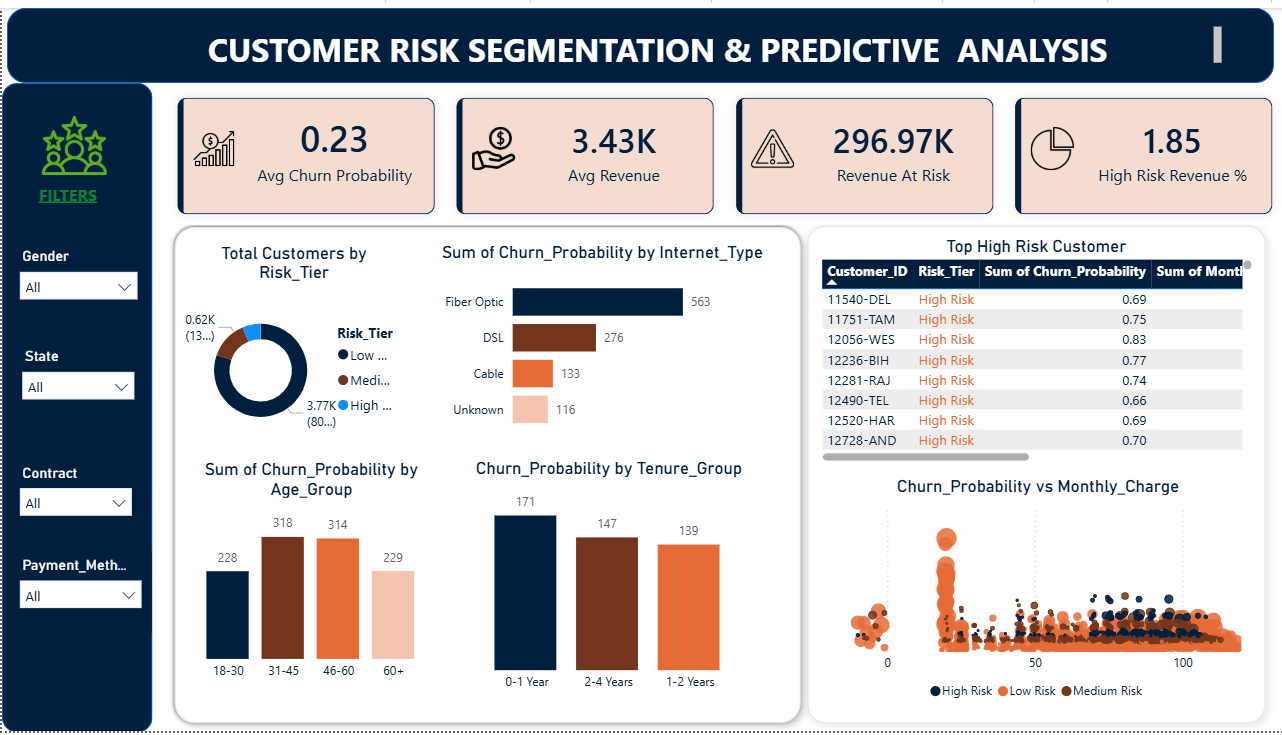

This screenshot's page, from the dashboard's own definition file:
{"tool":"powerbi","page":{"name":"Prediction","canvas":[1280,720],"ordinal":1},"visuals":[{"type":"shape","box":[5.5,0,1260.9,74.7],"z":0},{"type":"shape","box":[792.4,207.1,474,512.9],"z":1000},{"type":"shape","box":[162.6,208.5,640.8,511.6],"z":2000},{"type":"shape","box":[0,74.9,149.8,646.4],"z":3000},{"type":"donutChart","title":"Total Customers by Risk_Tier","fields":{"Category":["customer_risk_segments.Risk_Tier"],"Y":["dummy table.Total Customer"]},"box":[176.8,233.4,227.9,215.5],"z":4000},{"type":"tableEx","title":"Top High Risk Customer","fields":{"Values":["customer_risk_segments.Customer_ID","customer_risk_segments.Risk_Tier","Sum(customer_risk_segments.Churn_Probability)","Sum(customer_risk_segments.Monthly_Charge)","Sum(customer_risk_segments.Total_Revenue)","customer_risk_segments.Contract","customer_risk_segments.Internet_Type"]},"box":[812.8,233,438.3,230.3],"z":5000},{"type":"clusteredColumnChart","fields":{"Category":["mapping Agegroup.Age_Group"],"Y":["Sum(customer_risk_segments.Churn_Probability)"]},"box":[176.2,464.7,263.5,224.7],"z":6000},{"type":"scatterChart","title":"Churn_Probability vs   Monthly_Charge","fields":{"X":["customer_risk_segments.Monthly_Charge"],"Y":["Sum(customer_risk_segments.Churn_Probability)"],"Series":["customer_risk_segments.Risk_Tier"],"Size":["Sum(customer_risk_segments.Total_Revenue)"]},"box":[813.3,465.6,435.1,232.8],"z":7000},{"type":"slicer","fields":{"Values":["public customer_data.Contract"]},"box":[6.9,448.7,131.7,76.8],"z":8000},{"type":"cardVisual","fields":{"Data":["dummy table.Avg Churn Probability","dummy table.Avg Revenue","dummy table.Revenue At Risk","dummy table.High Risk Revenue %"]},"box":[160.5,75.5,1119.7,142.7],"z":9000},{"type":"clusteredColumnChart","title":" Churn_Probability by Tenure_Group","fields":{"Category":["customer_risk_segments.Tenure_Group"],"Y":["Sum(customer_risk_segments.Churn_Probability)"]},"box":[452.2,448,302.4,241.4],"z":10000},{"type":"clusteredBarChart","fields":{"Y":["Sum(customer_risk_segments.Churn_Probability)"],"Category":["customer_risk_segments.Internet_Type"]},"box":[430,233,334.3,201.1],"z":11000},{"type":"textbox","box":[94.7,13.7,1123.8,49.4],"z":12000},{"type":"slicer","fields":{"Values":["public customer_data.State"]},"box":[9.6,333.4,131.7,74.1],"z":13000},{"type":"slicer","fields":{"Values":["public customer_data.Gender"]},"box":[6.9,233.3,137.2,81],"z":14000},{"type":"slicer","fields":{"Values":["public customer_data.Payment_Method"]},"box":[6.9,540.7,141.3,81],"z":15000},{"type":"textbox","box":[8.2,168.8,113.9,39.8],"z":16000},{"type":"image","box":[12.3,104.3,119.4,64.5],"z":17000}]}

Visuals, with their boxes in screenshot pixels (x1, y1, x2, y2), scaled from the page's 1280x720 canvas onto the 1282x735 screenshot:
shape: (x1=6, y1=0, x2=1268, y2=76)
shape: (x1=794, y1=211, x2=1268, y2=734)
shape: (x1=163, y1=213, x2=805, y2=734)
shape: (x1=0, y1=76, x2=150, y2=734)
"Total Customers by Risk_Tier" donutChart: (x1=177, y1=238, x2=405, y2=458)
"Top High Risk Customer" tableEx: (x1=814, y1=238, x2=1253, y2=473)
clusteredColumnChart - mapping Agegroup.Age_Group x Sum(customer_risk_segments.Churn_Probability): (x1=176, y1=474, x2=440, y2=704)
"Churn_Probability vs   Monthly_Charge" scatterChart: (x1=815, y1=475, x2=1250, y2=713)
slicer - public customer_data.Contract: (x1=7, y1=458, x2=139, y2=536)
cardVisual - dummy table.Avg Churn Probability x dummy table.Avg Revenue: (x1=161, y1=77, x2=1281, y2=223)
" Churn_Probability by Tenure_Group" clusteredColumnChart: (x1=453, y1=457, x2=756, y2=704)
clusteredBarChart - Sum(customer_risk_segments.Churn_Probability) x customer_risk_segments.Internet_Type: (x1=431, y1=238, x2=765, y2=443)
textbox: (x1=95, y1=14, x2=1220, y2=64)
slicer - public customer_data.State: (x1=10, y1=340, x2=142, y2=416)
slicer - public customer_data.Gender: (x1=7, y1=238, x2=144, y2=321)
slicer - public customer_data.Payment_Method: (x1=7, y1=552, x2=148, y2=635)
textbox: (x1=8, y1=172, x2=122, y2=213)
image: (x1=12, y1=106, x2=132, y2=172)
